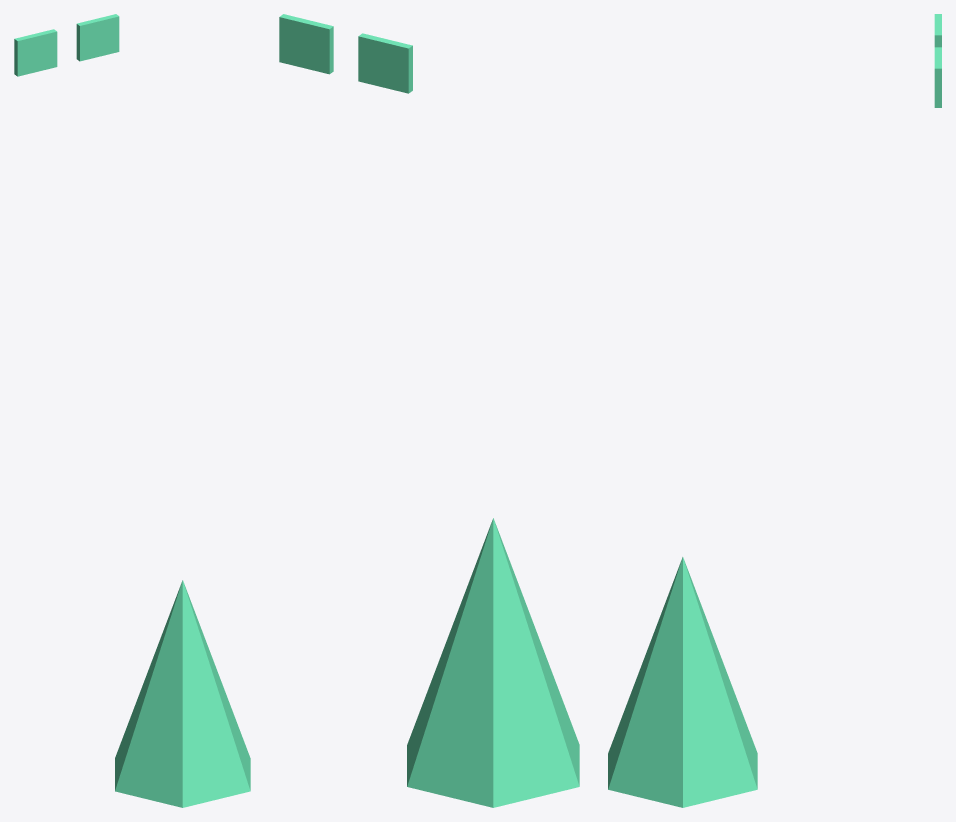
File: cave_lantern_fire.glb
3 views of the same model, side by side, from view 1: azimuth 30°, elevation 25°; view 2: azimuth 150°, elevation 25°; view 3: azimuth 270°, elevation 25° (orthographic). The views are drawn at different scales.
Parts seen in each view (by area): view 1: cave_lantern_fire; view 2: cave_lantern_fire; view 3: cave_lantern_fire.
Boxes of the visible parts, x1,y1,x2,y2 form: cave_lantern_fire: (14, 14, 250, 807); cave_lantern_fire: (279, 14, 579, 807); cave_lantern_fire: (608, 14, 941, 807).
Size of the model in its own units: 0.24 by 1.12 by 0.4639.
1 material, 1 textured.
